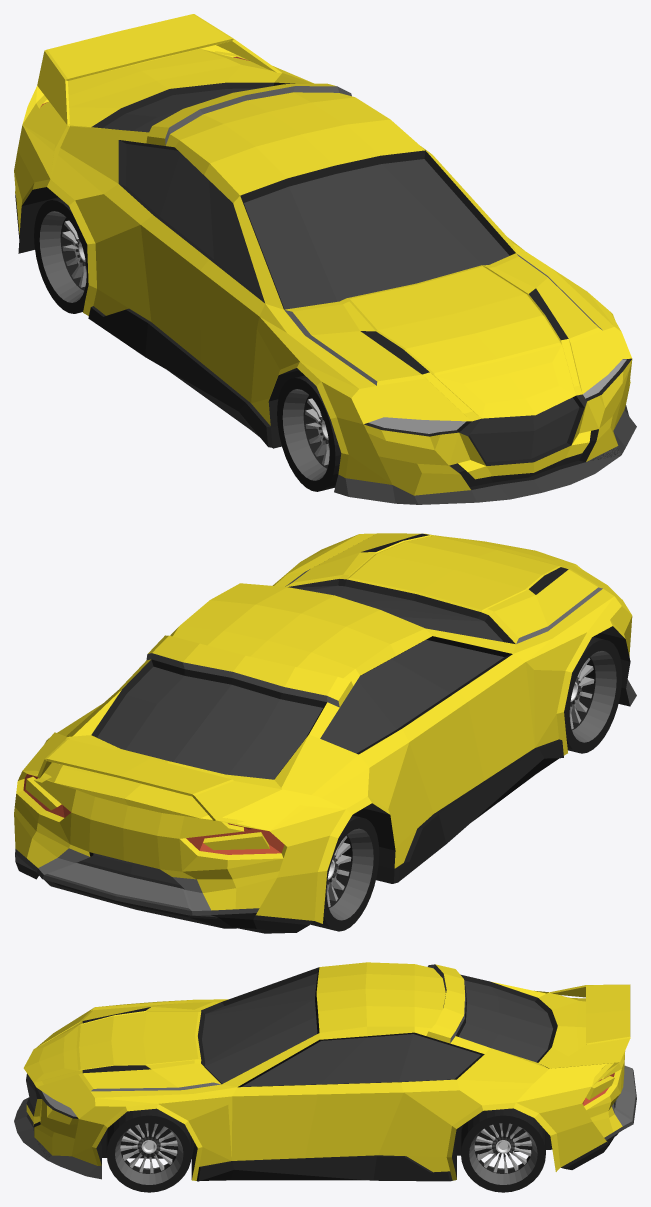
Rendered from bmwhommage3.0cslconcept.fbx.
3 views of the same model, one above another, from view 1: azimuth 30°, elevation 25°; view 2: azimuth 150°, elevation 25°; view 3: azimuth 270°, elevation 25° (orthographic). The views are drawn at different scales.
Parts seen in each view (by area): view 1: YellowBody, FrontRight, BackRight; view 2: YellowBody, FrontRight, BackRight; view 3: YellowBody, BackLeft, FrontLeft.
Part boxes in pixels (x1=…): YellowBody: x1=14, y1=14, x2=636, y2=504; FrontRight: x1=277, y1=375, x2=341, y2=491; BackRight: x1=34, y1=198, x2=88, y2=313; YellowBody: x1=14, y1=533, x2=636, y2=933; FrontRight: x1=564, y1=637, x2=622, y2=753; BackRight: x1=310, y1=815, x2=379, y2=931; YellowBody: x1=14, y1=962, x2=636, y2=1181; BackLeft: x1=461, y1=1108, x2=545, y2=1192; FrontLeft: x1=106, y1=1108, x2=191, y2=1192.
Size of the model in its own units: 2.08 by 4.95 by 1.34.
